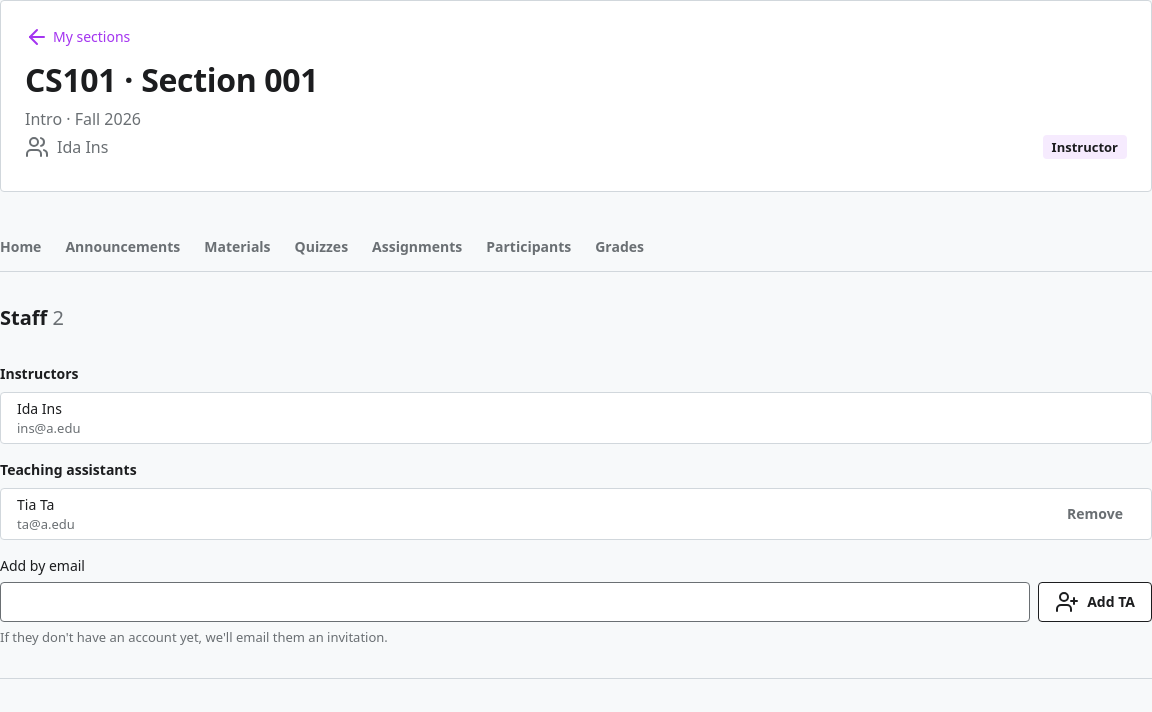
removes staff through the dialog
Click the button with aria-label "Remove Tia Ta as TA" at (1095, 514), box [1055,498,1135,530]
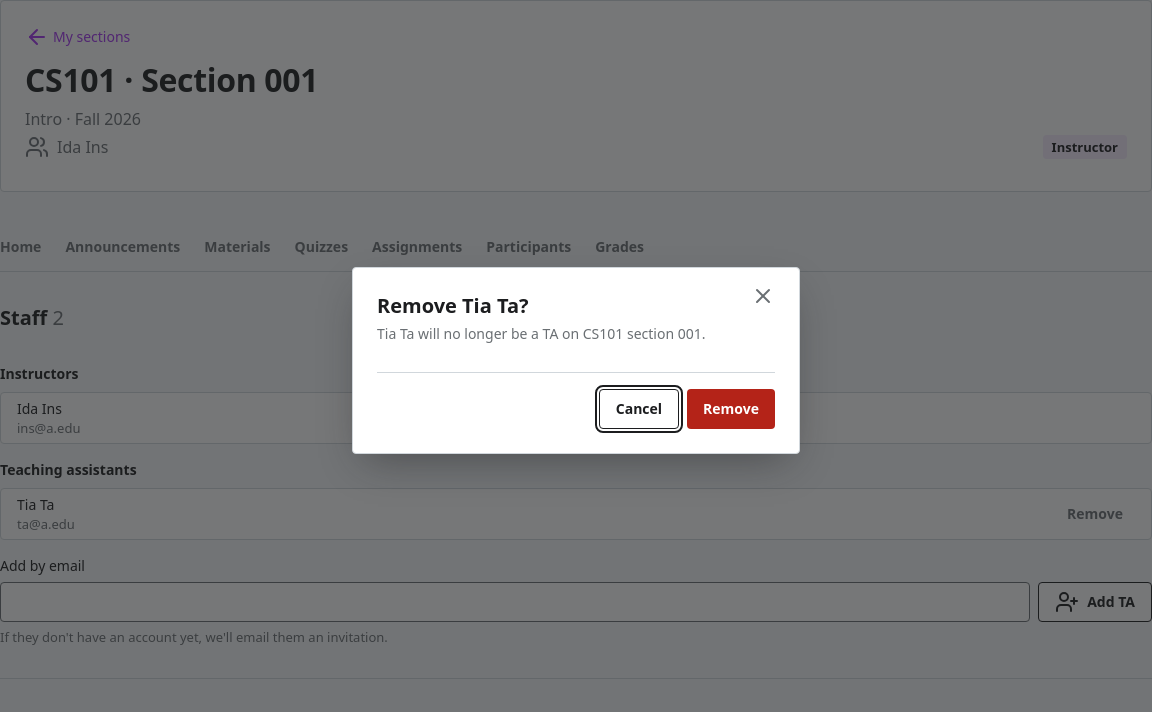
Expected: the dialog "Remove Tia Ta?" shows "Tia Ta will no longer be a TA on CS101 section 001.", [377,324,706,342]
Click the button "Remove" at (731, 408), box [687,388,775,428]
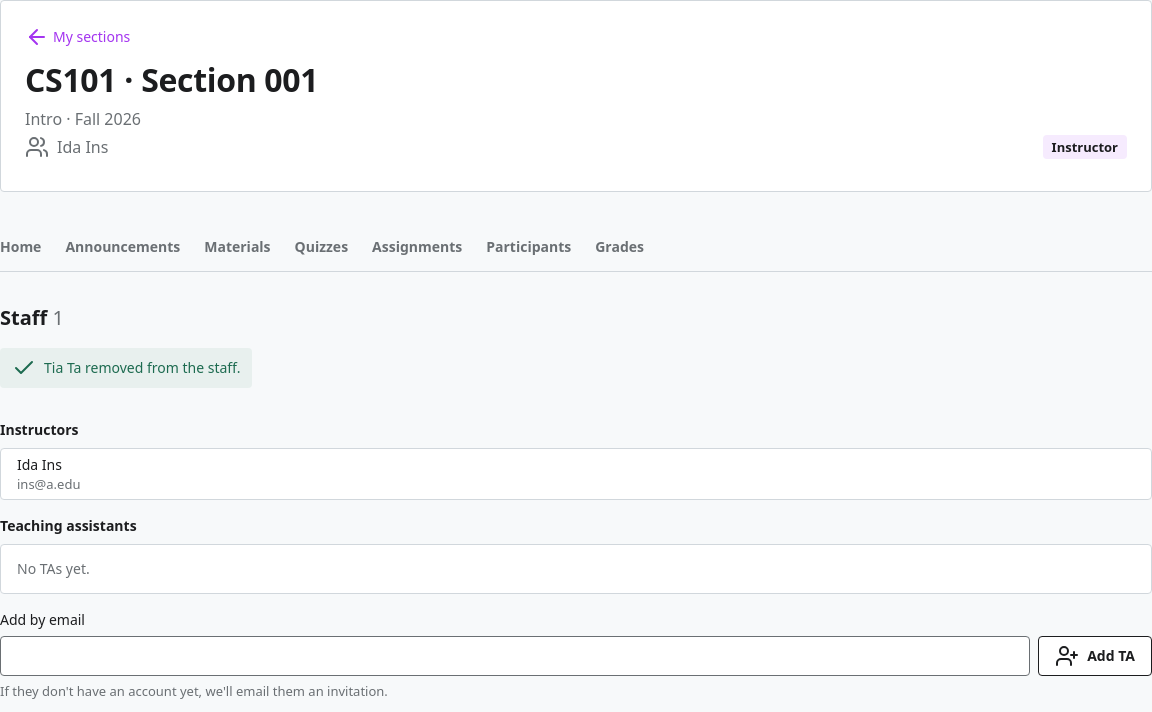
Expected: the text "Tia Ta removed from the staff." is shown, [0,348,252,388]
